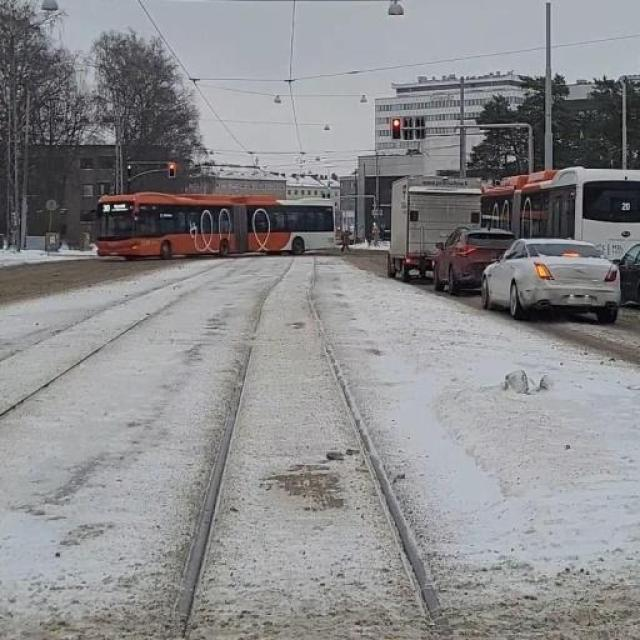vehicle: (93, 186, 345, 258), (386, 171, 482, 276), (433, 220, 511, 291)
